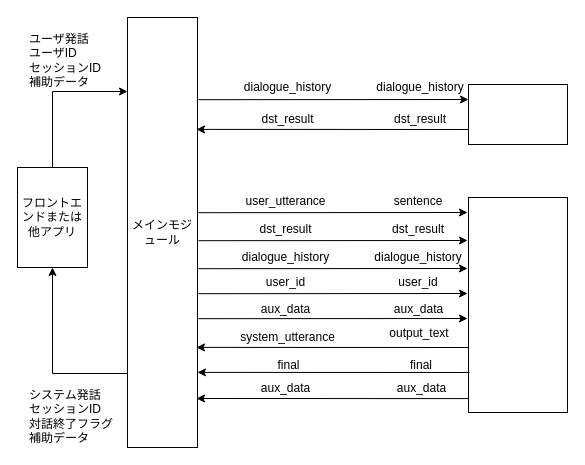
Some shapes in this 585 by 465 pixel diagram are drawn without their labels. The centre of each missing label's shape, as x and y in pixels:
"DST ブロック" goes at point (518, 114).
"STN Manager ブロック" goes at point (518, 304).
